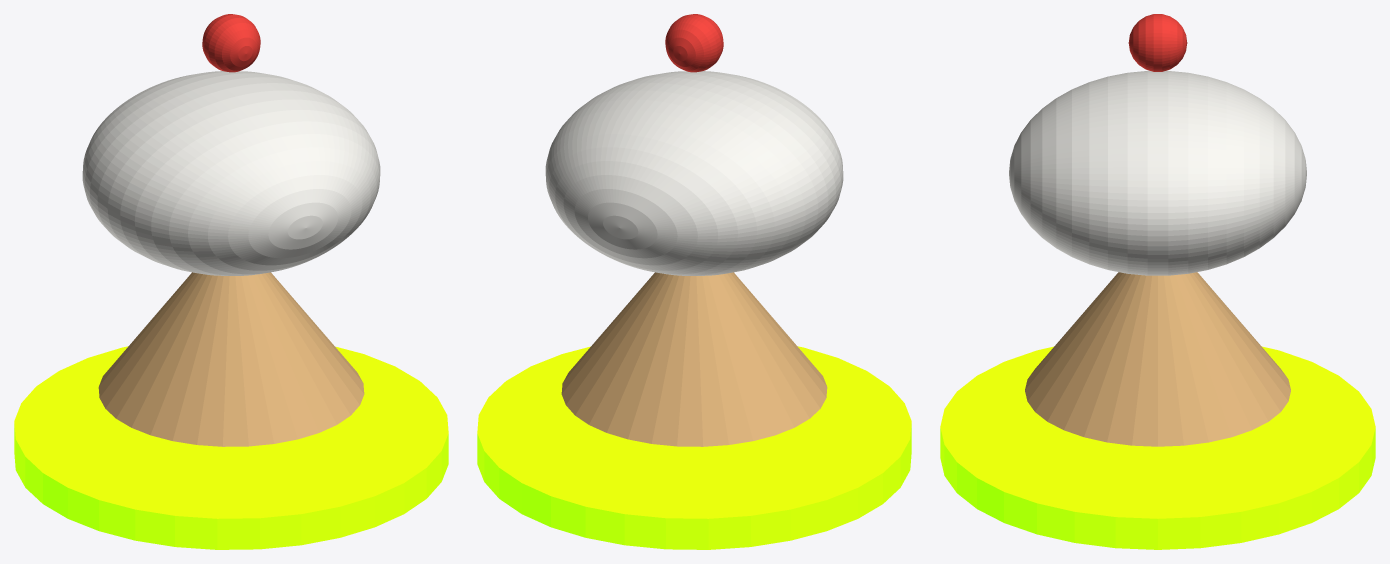
The model's file is food_cupcake.glb.
The picture shows the model from 3 angles, left to right: view 1: azimuth 30°, elevation 25°; view 2: azimuth 150°, elevation 25°; view 3: azimuth 270°, elevation 25°; orthographic projection.
Parts seen in each view (by area): view 1: 01_07_Popular_Food_Cupcake_ROOT_base, 01_07_Popular_Food_Cupcake_part_02, 01_07_Popular_Food_Cupcake_part_01, 01_07_Popular_Food_Cupcake_part_03; view 2: 01_07_Popular_Food_Cupcake_ROOT_base, 01_07_Popular_Food_Cupcake_part_02, 01_07_Popular_Food_Cupcake_part_01, 01_07_Popular_Food_Cupcake_part_03; view 3: 01_07_Popular_Food_Cupcake_ROOT_base, 01_07_Popular_Food_Cupcake_part_02, 01_07_Popular_Food_Cupcake_part_01, 01_07_Popular_Food_Cupcake_part_03.
Part boxes in pixels (box(x1,y1,x2,y2)): 01_07_Popular_Food_Cupcake_ROOT_base: box(14, 346, 448, 549); 01_07_Popular_Food_Cupcake_part_02: box(82, 71, 380, 275); 01_07_Popular_Food_Cupcake_part_01: box(98, 272, 364, 446); 01_07_Popular_Food_Cupcake_part_03: box(202, 14, 260, 72); 01_07_Popular_Food_Cupcake_ROOT_base: box(477, 346, 911, 549); 01_07_Popular_Food_Cupcake_part_02: box(545, 71, 843, 275); 01_07_Popular_Food_Cupcake_part_01: box(561, 272, 827, 446); 01_07_Popular_Food_Cupcake_part_03: box(665, 14, 723, 72); 01_07_Popular_Food_Cupcake_ROOT_base: box(940, 346, 1375, 549); 01_07_Popular_Food_Cupcake_part_02: box(1009, 70, 1306, 275); 01_07_Popular_Food_Cupcake_part_01: box(1025, 272, 1290, 446); 01_07_Popular_Food_Cupcake_part_03: box(1128, 14, 1187, 71).
Bounding box in the file's own units: 0.76 × 0.85 × 0.76.
